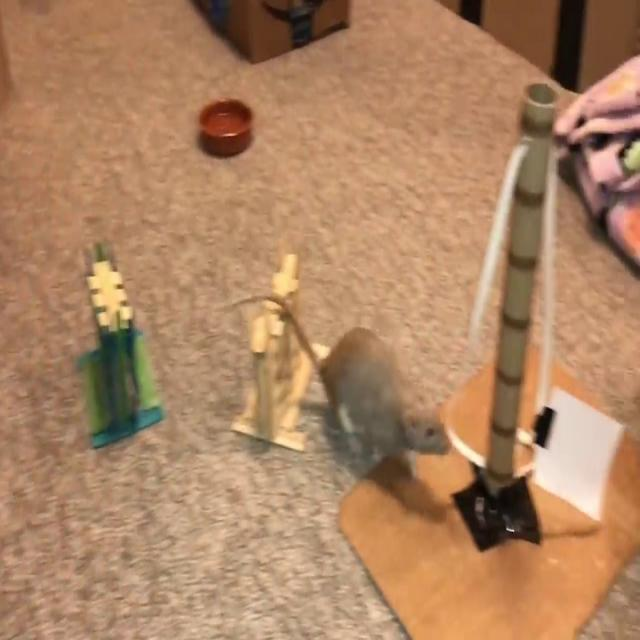rat: (314, 318, 454, 479)
